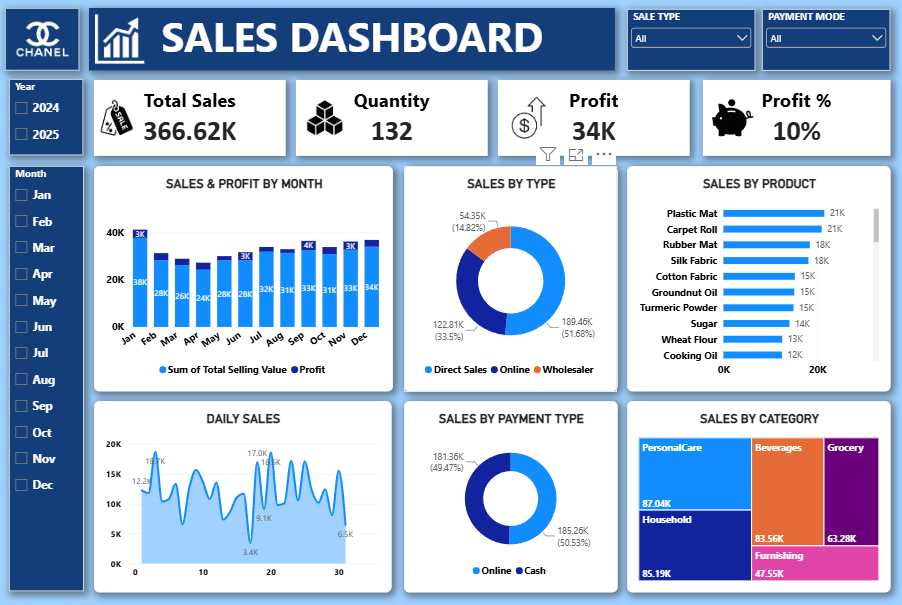

What the dashboard file says about the page in this screenshot:
{"tool":"powerbi","page":{"name":"Page 1","canvas":[1920,1080],"ordinal":0},"visuals":[{"type":"shape","box":[8.8,16.2,107,90],"z":0},{"type":"image","box":[17.5,23.8,91,74.5],"z":1000},{"type":"textbox","box":[130,16.2,758,90],"z":2000},{"type":"image","box":[138.8,23.8,71.2,75],"z":3000},{"type":"slicer","fields":{"Values":["InputData.Year"]},"box":[13.8,118.8,107,110],"z":4000},{"type":"slicer","fields":{"Values":["InputData.Month Name"]},"box":[13.8,243.8,107.5,612.5],"z":5000},{"type":"slicer","fields":{"Values":["InputData.SALE TYPE"]},"box":[905,17.5,185,89],"z":6000},{"type":"slicer","fields":{"Values":["InputData.PAYMENT MODE"]},"box":[1100,17.5,185,89],"z":7000},{"type":"cardVisual","fields":{"Data":["Sum(InputData.Total Selling Value)"]},"box":[136.2,120,276,109],"z":8000},{"type":"cardVisual","fields":{"Data":["Sum(InputData.QUANTITY)"]},"box":[428.8,120,276,109],"z":9000},{"type":"cardVisual","fields":{"Data":["InputData.Profit"]},"box":[718.8,120,276,109],"z":10000},{"type":"cardVisual","fields":{"Data":["InputData.Profit %"]},"box":[1015,120,270,108.8],"z":11000},{"type":"image","box":[130,133.8,80,80],"z":12000},{"type":"image","box":[727.5,133.8,71.2,80],"z":13000},{"type":"image","box":[1027.5,133.8,60,80],"z":14000},{"type":"image","box":[440,133.8,60,80],"z":15000},{"type":"columnChart","title":"SALES & PROFIT BY MONTH","fields":{"Category":["InputData.Month Name"],"Y":["Sum(InputData.Total Selling Value)","InputData.Profit"]},"box":[136.2,243.8,431.2,325],"z":16000},{"type":"areaChart","title":"DAILY SALES","fields":{"Category":["InputData.Day"],"Y":["Sum(InputData.Total Selling Value)"]},"box":[136.2,582.5,428.8,276.2],"z":16001},{"type":"clusteredBarChart","title":"SALES BY PRODUCT","fields":{"Category":["InputData.MasterData.PRODUCT"],"Y":["Sum(InputData.Total Selling Value)"]},"box":[905,243.8,380,325],"z":16002},{"type":"treemap","title":"SALES BY CATEGORY","fields":{"Group":["InputData.MasterData.CATEGORY"],"Values":["Sum(InputData.Total Selling Value)"]},"box":[905,582.5,380,276.2],"z":16003},{"type":"donutChart","title":"SALES BY TYPE","fields":{"Category":["InputData.SALE TYPE"],"Y":["Sum(InputData.Total Selling Value)"]},"box":[583.8,243.8,307.5,325],"z":16004},{"type":"donutChart","title":"SALES BY PAYMENT TYPE","fields":{"Category":["InputData.PAYMENT MODE"],"Y":["Sum(InputData.Total Selling Value)"]},"box":[583.8,582.5,307.5,276.2],"z":16005}]}

Visuals, with their boxes on the page's 1920x1080 design canvas (x1, y1, x2, y2). These are canvas units, not pixel positions in the 902x605 screenshot, which may show the page scaled, cropped or inside an application window:
shape: <bbox>9, 16, 116, 106</bbox>
image: <bbox>18, 24, 108, 98</bbox>
textbox: <bbox>130, 16, 888, 106</bbox>
image: <bbox>139, 24, 210, 99</bbox>
slicer - InputData.Year: <bbox>14, 119, 121, 229</bbox>
slicer - InputData.Month Name: <bbox>14, 244, 121, 856</bbox>
slicer - InputData.SALE TYPE: <bbox>905, 18, 1090, 106</bbox>
slicer - InputData.PAYMENT MODE: <bbox>1100, 18, 1285, 106</bbox>
cardVisual - Sum(InputData.Total Selling Value): <bbox>136, 120, 412, 229</bbox>
cardVisual - Sum(InputData.QUANTITY): <bbox>429, 120, 705, 229</bbox>
cardVisual - InputData.Profit: <bbox>719, 120, 995, 229</bbox>
cardVisual - InputData.Profit %: <bbox>1015, 120, 1285, 229</bbox>
image: <bbox>130, 134, 210, 214</bbox>
image: <bbox>728, 134, 799, 214</bbox>
image: <bbox>1028, 134, 1088, 214</bbox>
image: <bbox>440, 134, 500, 214</bbox>
"SALES & PROFIT BY MONTH" columnChart: <bbox>136, 244, 567, 569</bbox>
"DAILY SALES" areaChart: <bbox>136, 582, 565, 859</bbox>
"SALES BY PRODUCT" clusteredBarChart: <bbox>905, 244, 1285, 569</bbox>
"SALES BY CATEGORY" treemap: <bbox>905, 582, 1285, 859</bbox>
"SALES BY TYPE" donutChart: <bbox>584, 244, 891, 569</bbox>
"SALES BY PAYMENT TYPE" donutChart: <bbox>584, 582, 891, 859</bbox>
